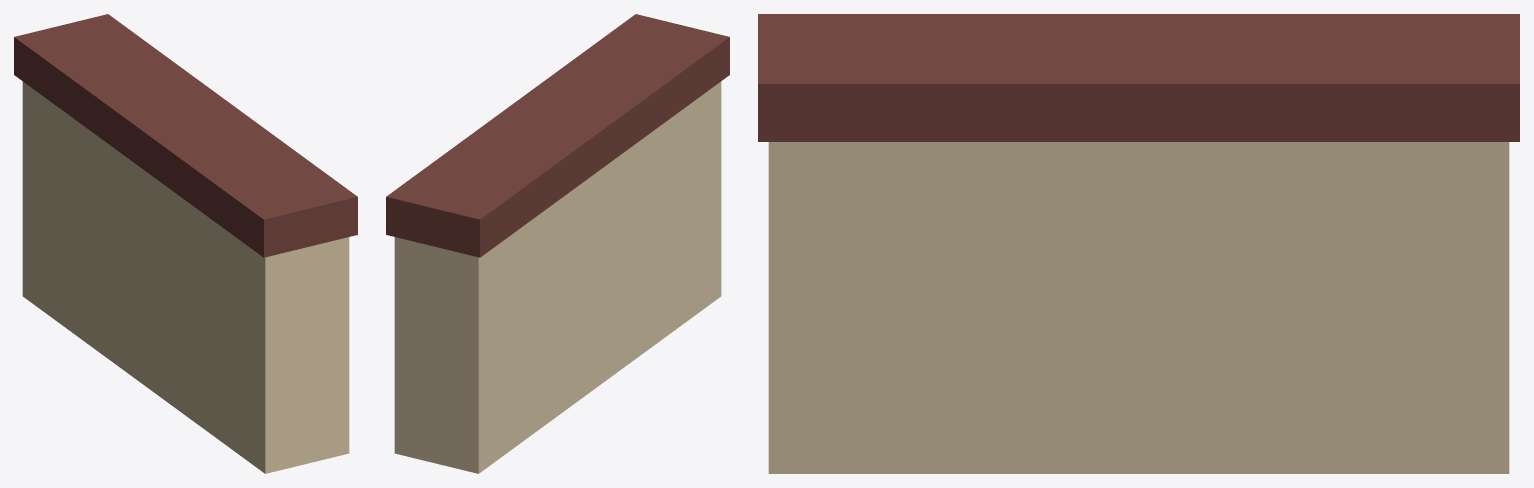
File: WallHalf.fbx
3 renders of one model, left to right at view 1: azimuth 30°, elevation 25°; view 2: azimuth 150°, elevation 25°; view 3: azimuth 270°, elevation 25°, orthographic. The views are drawn at different scales.
Visible parts, largest first — view 1: WallHalf; view 2: WallHalf; view 3: WallHalf.
Part boxes in pixels (x1,y1,x2,y2): WallHalf: (14,14,357,473); WallHalf: (386,14,729,473); WallHalf: (758,14,1519,473).
Bounding box in the file's own units: 0.4472 × 2.06 × 1.17.
